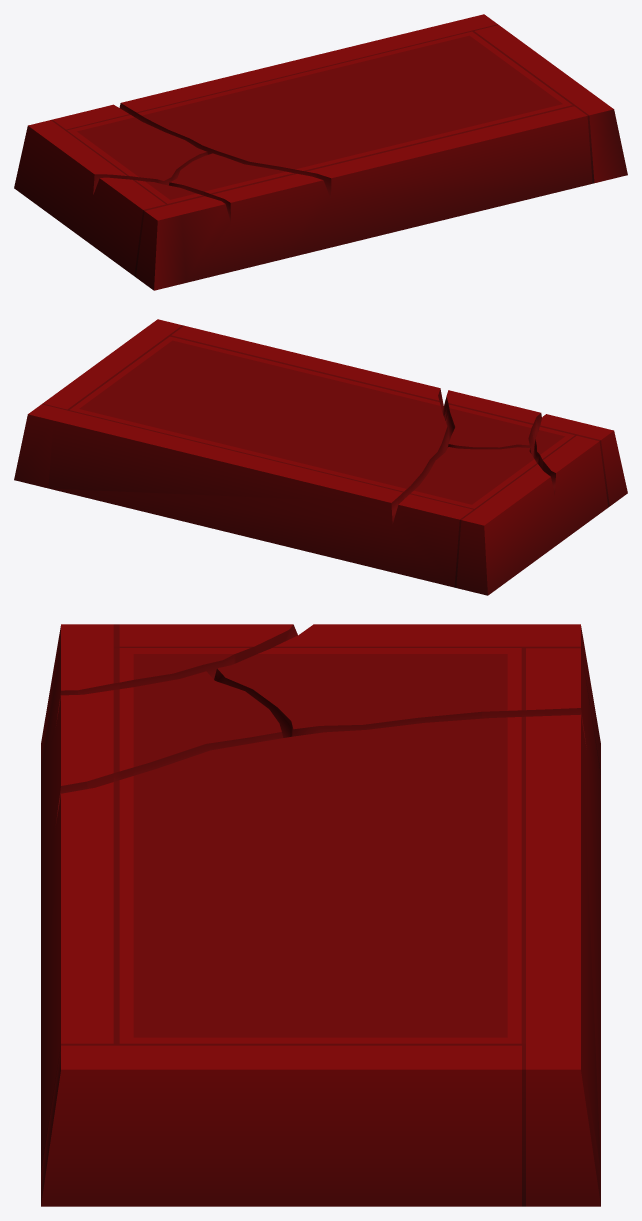
The model's file is geology-landforms-citywidesidewalktile_v3.fbx.
3 views of the same model, one above another, from view 1: azimuth 30°, elevation 25°; view 2: azimuth 150°, elevation 25°; view 3: azimuth 270°, elevation 25° (orthographic). The views are drawn at different scales.
Visible parts, largest first — view 1: CityWideSidewalkTile_v3; view 2: CityWideSidewalkTile_v3; view 3: CityWideSidewalkTile_v3.
Boxes of the visible parts, box(x1,y1,x2,y2) form: CityWideSidewalkTile_v3: box(14, 14, 627, 290); CityWideSidewalkTile_v3: box(14, 319, 627, 595); CityWideSidewalkTile_v3: box(41, 624, 600, 1206).
Bounding box in the file's own units: 6.31 × 0.9517 × 3.23.
